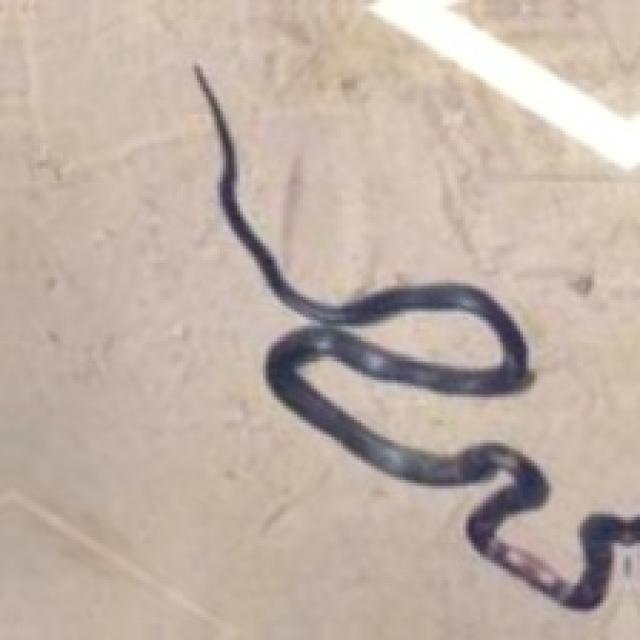king cobra: (194, 66, 637, 609)
